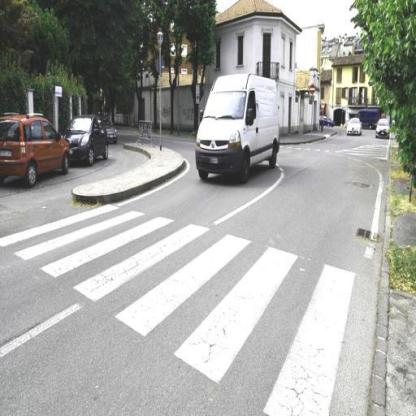crosswalk: (114, 200, 301, 396)
